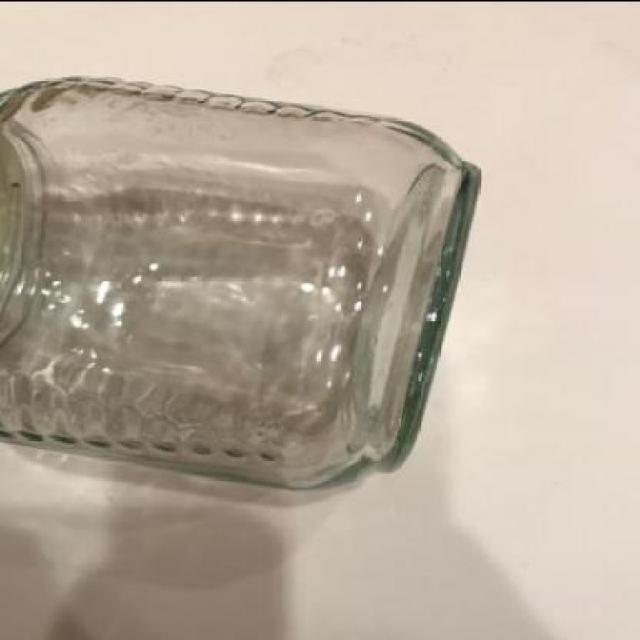glass: (2, 74, 483, 489)
